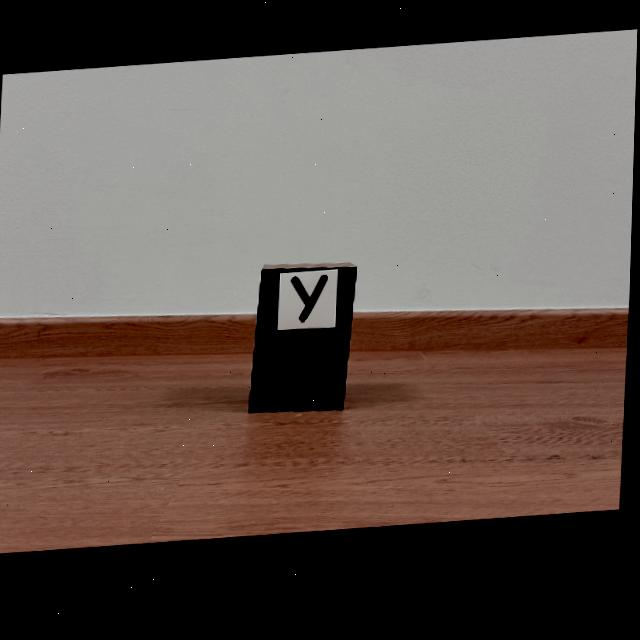Y: (292, 282, 329, 327)
